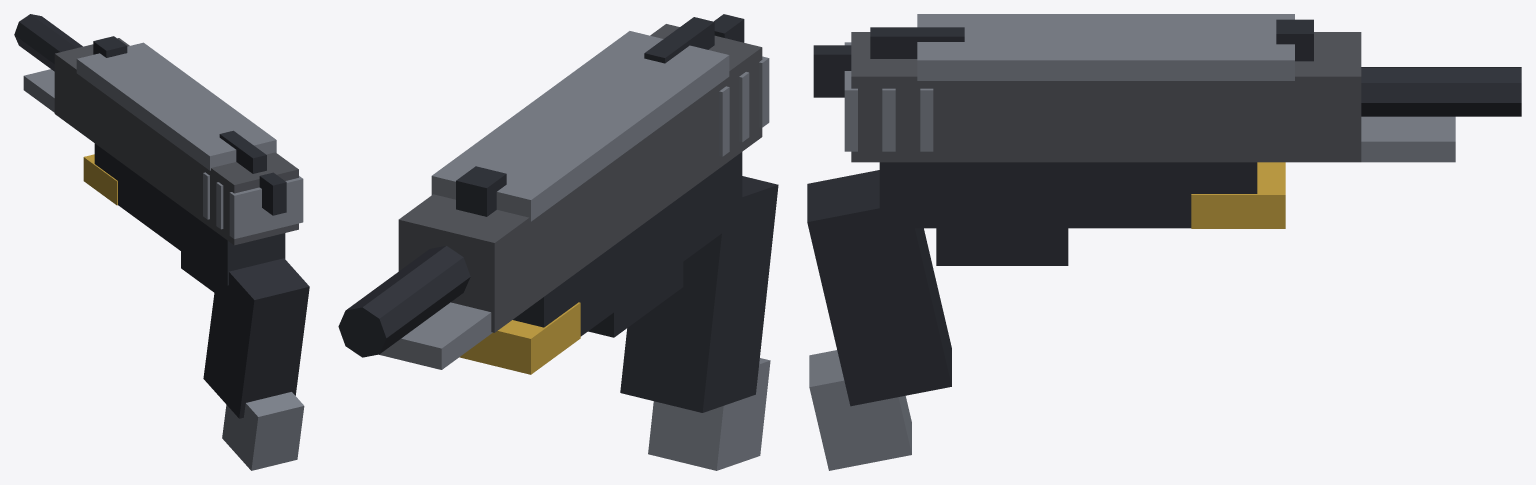
File: pistol.glb
3 views of the same model, side by side, from view 1: azimuth 30°, elevation 25°; view 2: azimuth 150°, elevation 25°; view 3: azimuth 270°, elevation 25° (orthographic). The views are drawn at different scales.
Parts seen in each view (by area): view 1: Pistol, Mag; view 2: Pistol, Mag; view 3: Pistol, Mag.
Boxes of the visible parts, <box> form: Pistol: <box>14,14,309,418</box>; Mag: <box>222,392,304,470</box>; Pistol: <box>338,14,778,412</box>; Mag: <box>648,358,770,470</box>; Pistol: <box>807,14,1521,406</box>; Mag: <box>809,350,911,470</box>.
Size of the model in its own units: 0.06 by 0.2501 by 0.3783.
